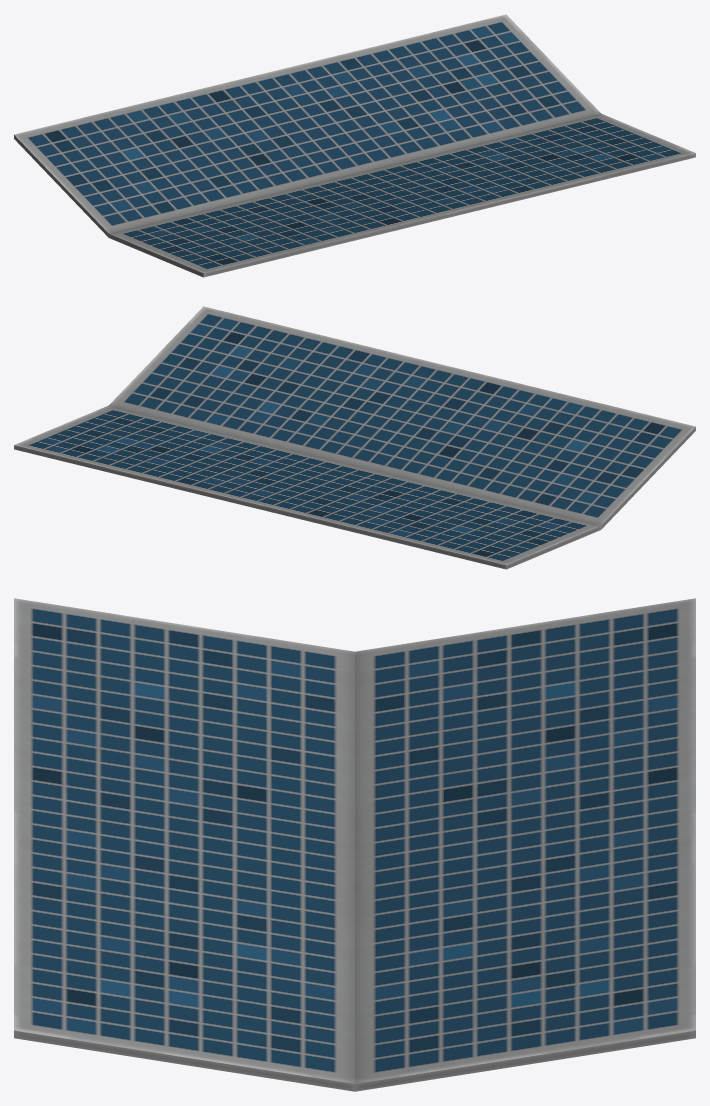
The model's file is cursa_panel_2.obj.
The picture shows the model from 3 angles, top to bottom: view 1: azimuth 30°, elevation 25°; view 2: azimuth 150°, elevation 25°; view 3: azimuth 270°, elevation 25°; orthographic projection. The views are drawn at different scales.
Visible parts, largest first — view 1: cursa_panel_2; view 2: cursa_panel_2; view 3: cursa_panel_2.
Boxes of the visible parts, x1,y1,x2,y2 form: cursa_panel_2: (14, 14, 695, 277); cursa_panel_2: (14, 306, 695, 569); cursa_panel_2: (14, 598, 695, 1091).
Bounding box in the file's own units: 1.5 × 0.099 × 1.
Materials: 1 (1 with a texture image).
